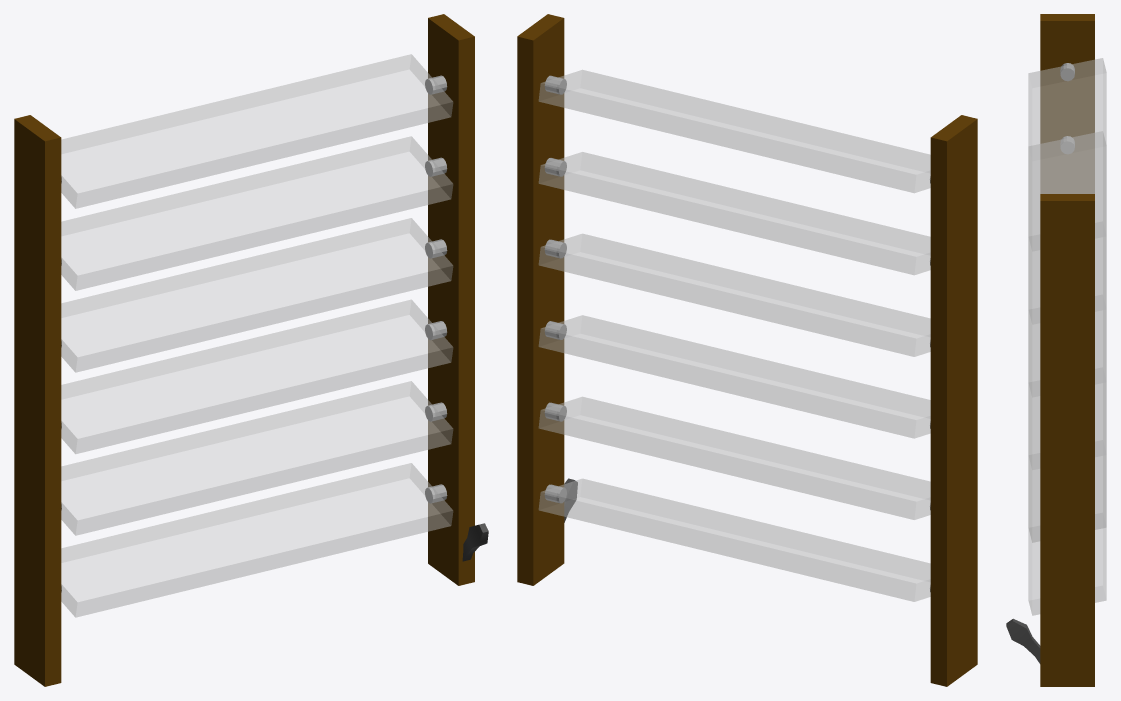
The model's file is jalousie_window.fbx.
3 views of the same model, side by side, from view 1: azimuth 30°, elevation 25°; view 2: azimuth 150°, elevation 25°; view 3: azimuth 270°, elevation 25° (orthographic). The views are drawn at different scales.
Parts seen in each view (by area): view 1: pCube11; view 2: pCube11; view 3: pCube11.
Part boxes in pixels (<box>): pCube11: <box>14,14,488,686</box>; pCube11: <box>517,14,977,686</box>; pCube11: <box>1006,14,1106,686</box>.
Bounding box in the file's own units: 5.51 × 6.68 × 1.25.
